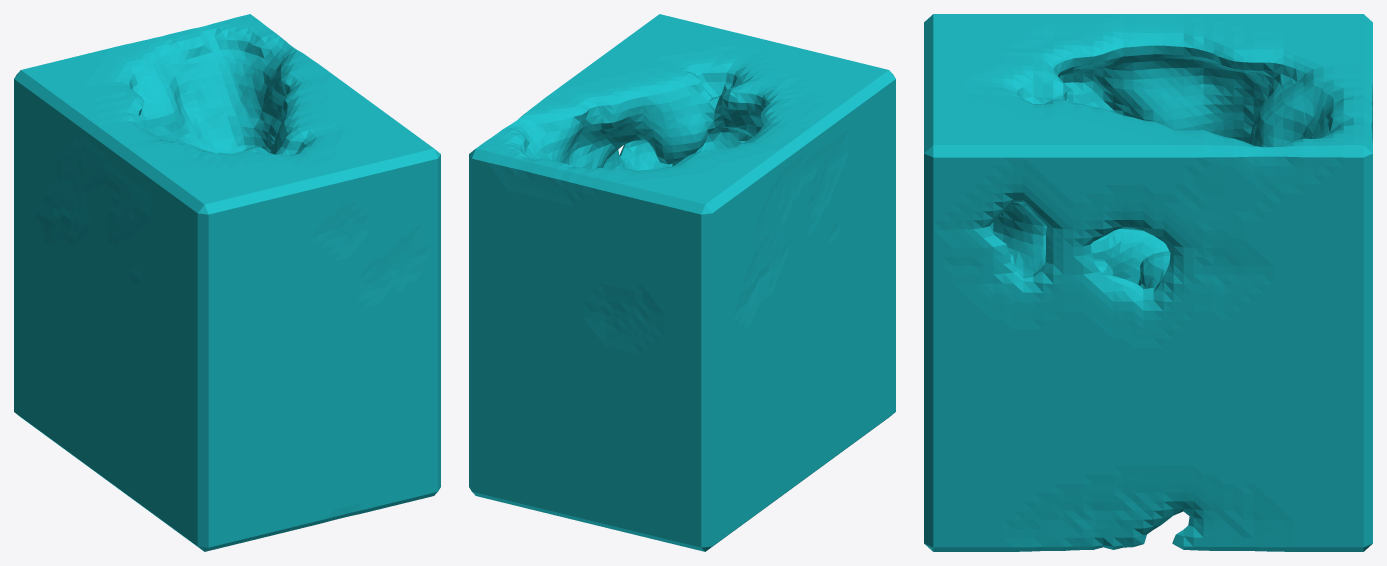
3 views of the same model, side by side, from view 1: azimuth 30°, elevation 25°; view 2: azimuth 150°, elevation 25°; view 3: azimuth 270°, elevation 25° (orthographic). The views are drawn at different scales.
Parts seen in each view (by area): view 1: Liquid_Domain; view 2: Liquid_Domain; view 3: Liquid_Domain.
Part boxes in pixels (box(x1,y1,x2,y2)): Liquid_Domain: box(14, 14, 440, 551); Liquid_Domain: box(469, 14, 895, 551); Liquid_Domain: box(924, 14, 1372, 551).
Bounding box in the file's own units: 79.09 × 108 × 108.
